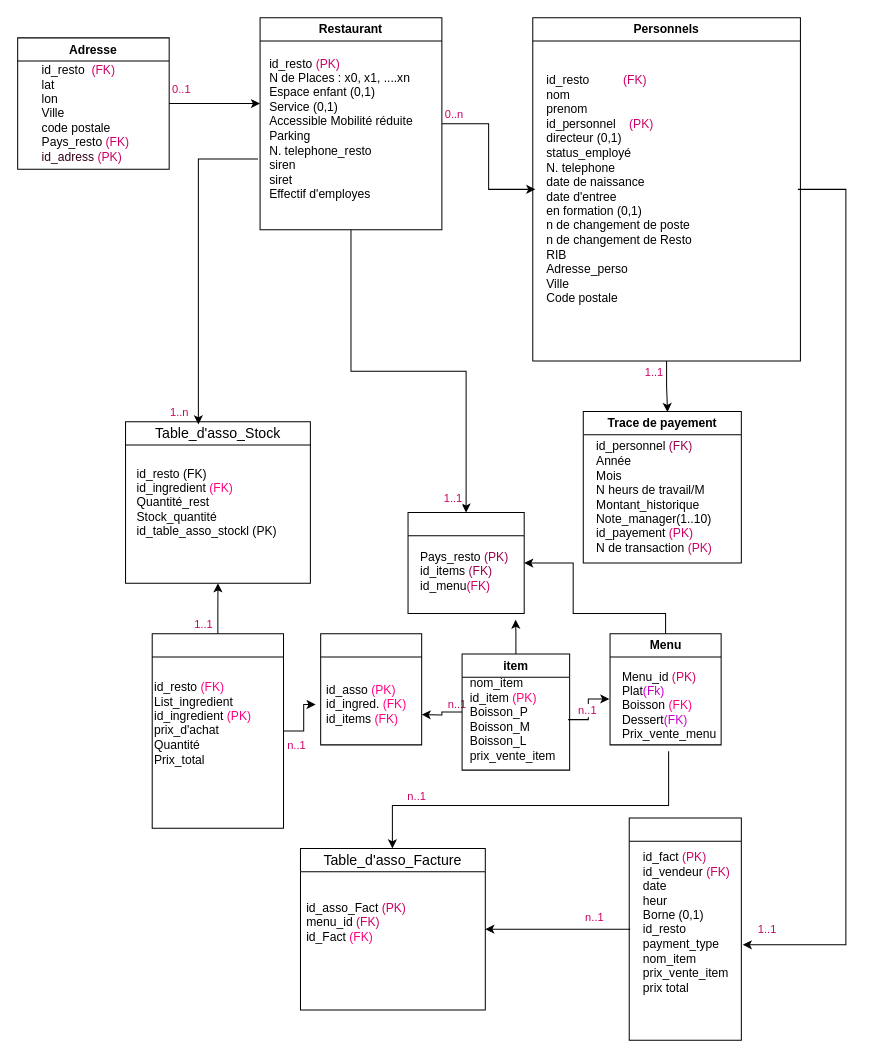
This 872x1058 diagram has some shape labels left out. Here are the shapes that lost their labels. From the top down, the box of each, then its label:
(407, 512, 524, 614): Carte
(320, 633, 422, 745): Table_d'asso
(151, 633, 284, 828): Ingreditns
(628, 817, 741, 1040): Facture
